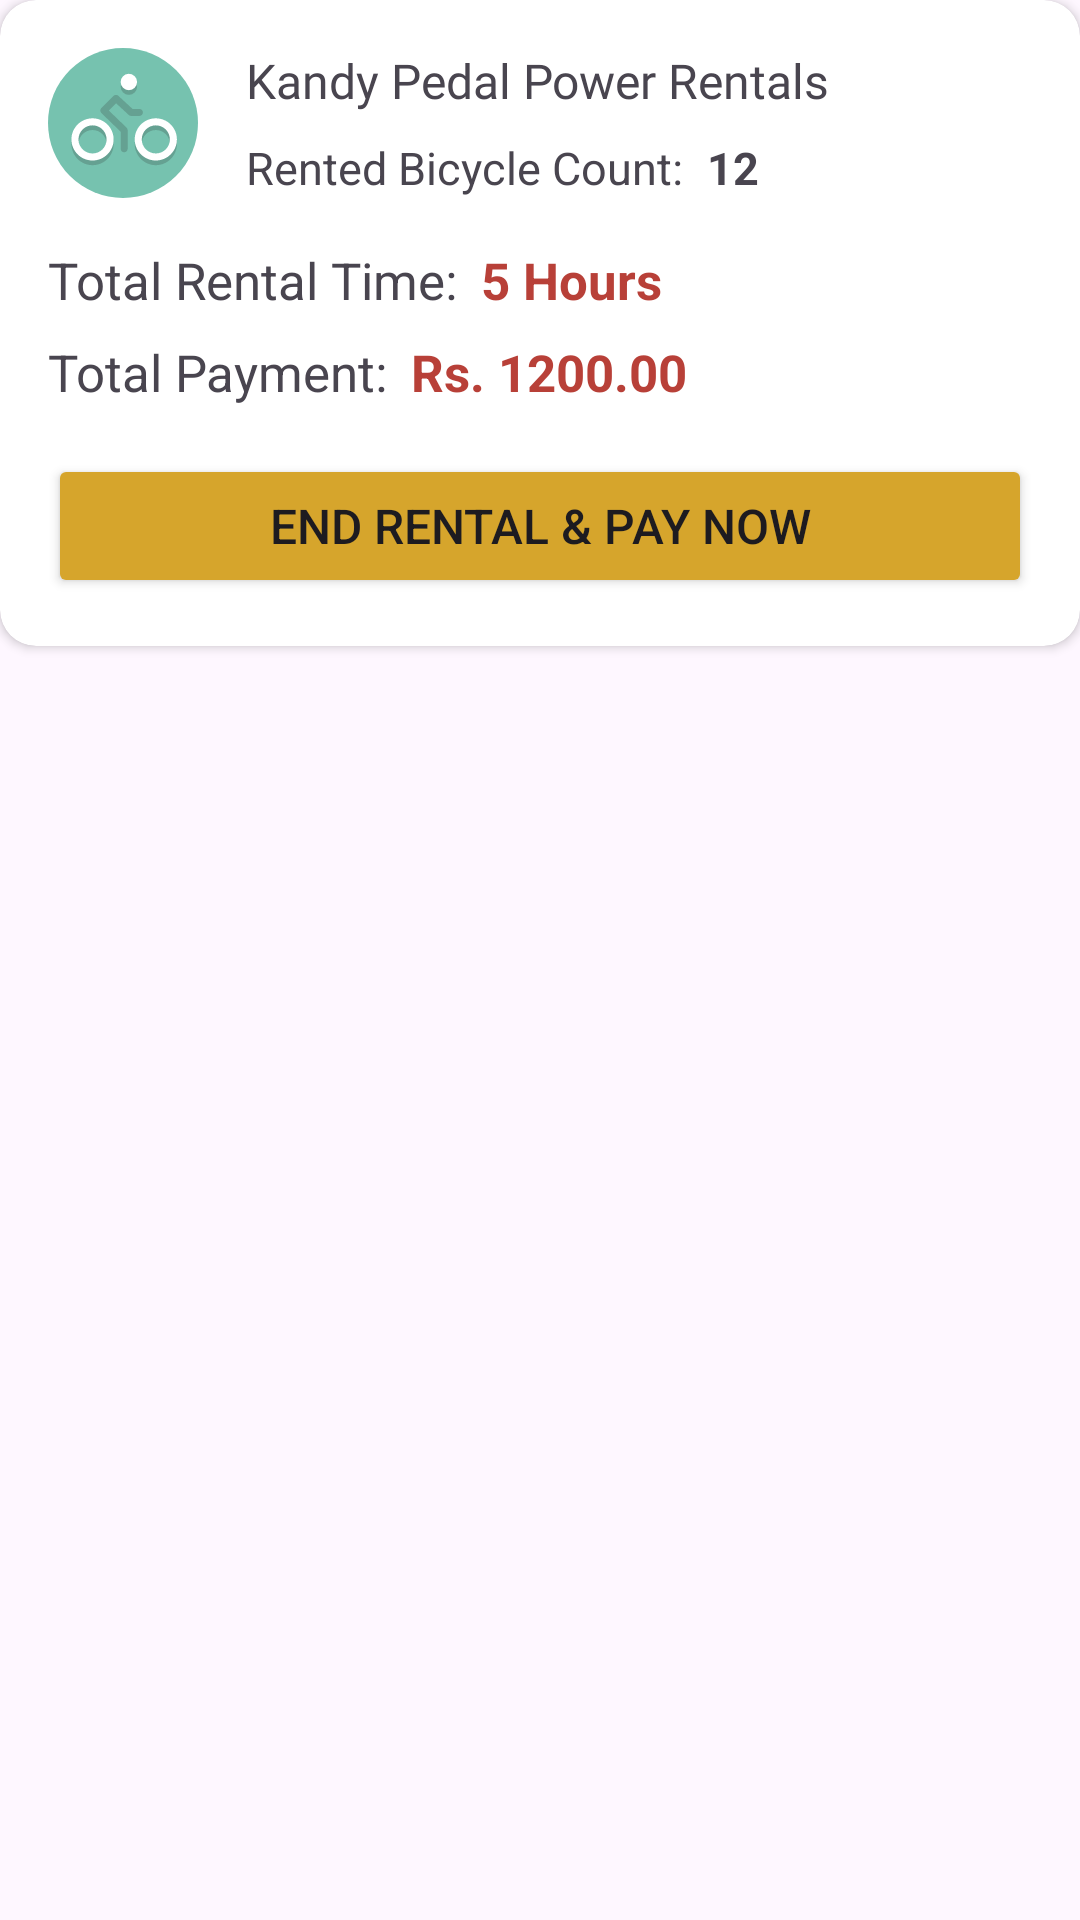

Named icons in this screenshot (1080 x 1920) and their centers, (x,y):
rentals bicyle: (123,123)
